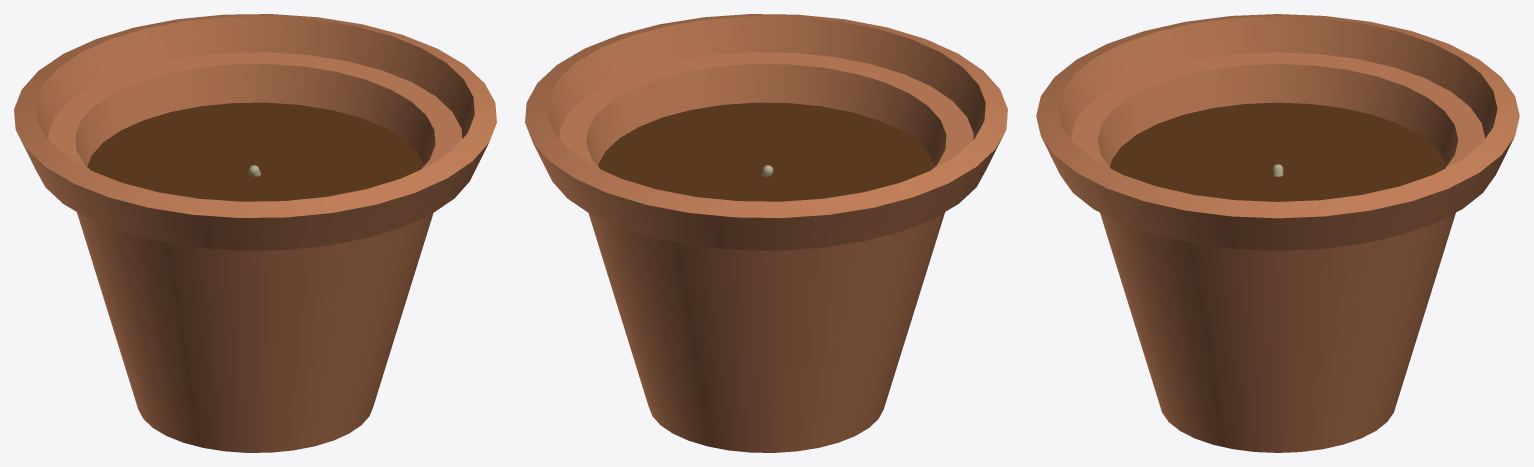
File: seed.fbx
The picture shows the model from 3 angles, left to right: view 1: azimuth 30°, elevation 25°; view 2: azimuth 150°, elevation 25°; view 3: azimuth 270°, elevation 25°; orthographic projection.
Parts seen in each view (by area): view 1: Plant Pot; view 2: Plant Pot; view 3: Plant Pot.
Boxes of the visible parts, x1,y1,x2,y2 form: Plant Pot: (14,14,496,452); Plant Pot: (525,14,1007,452); Plant Pot: (1036,14,1519,452).
Bounding box in the file's own units: 535 × 364 × 535.
